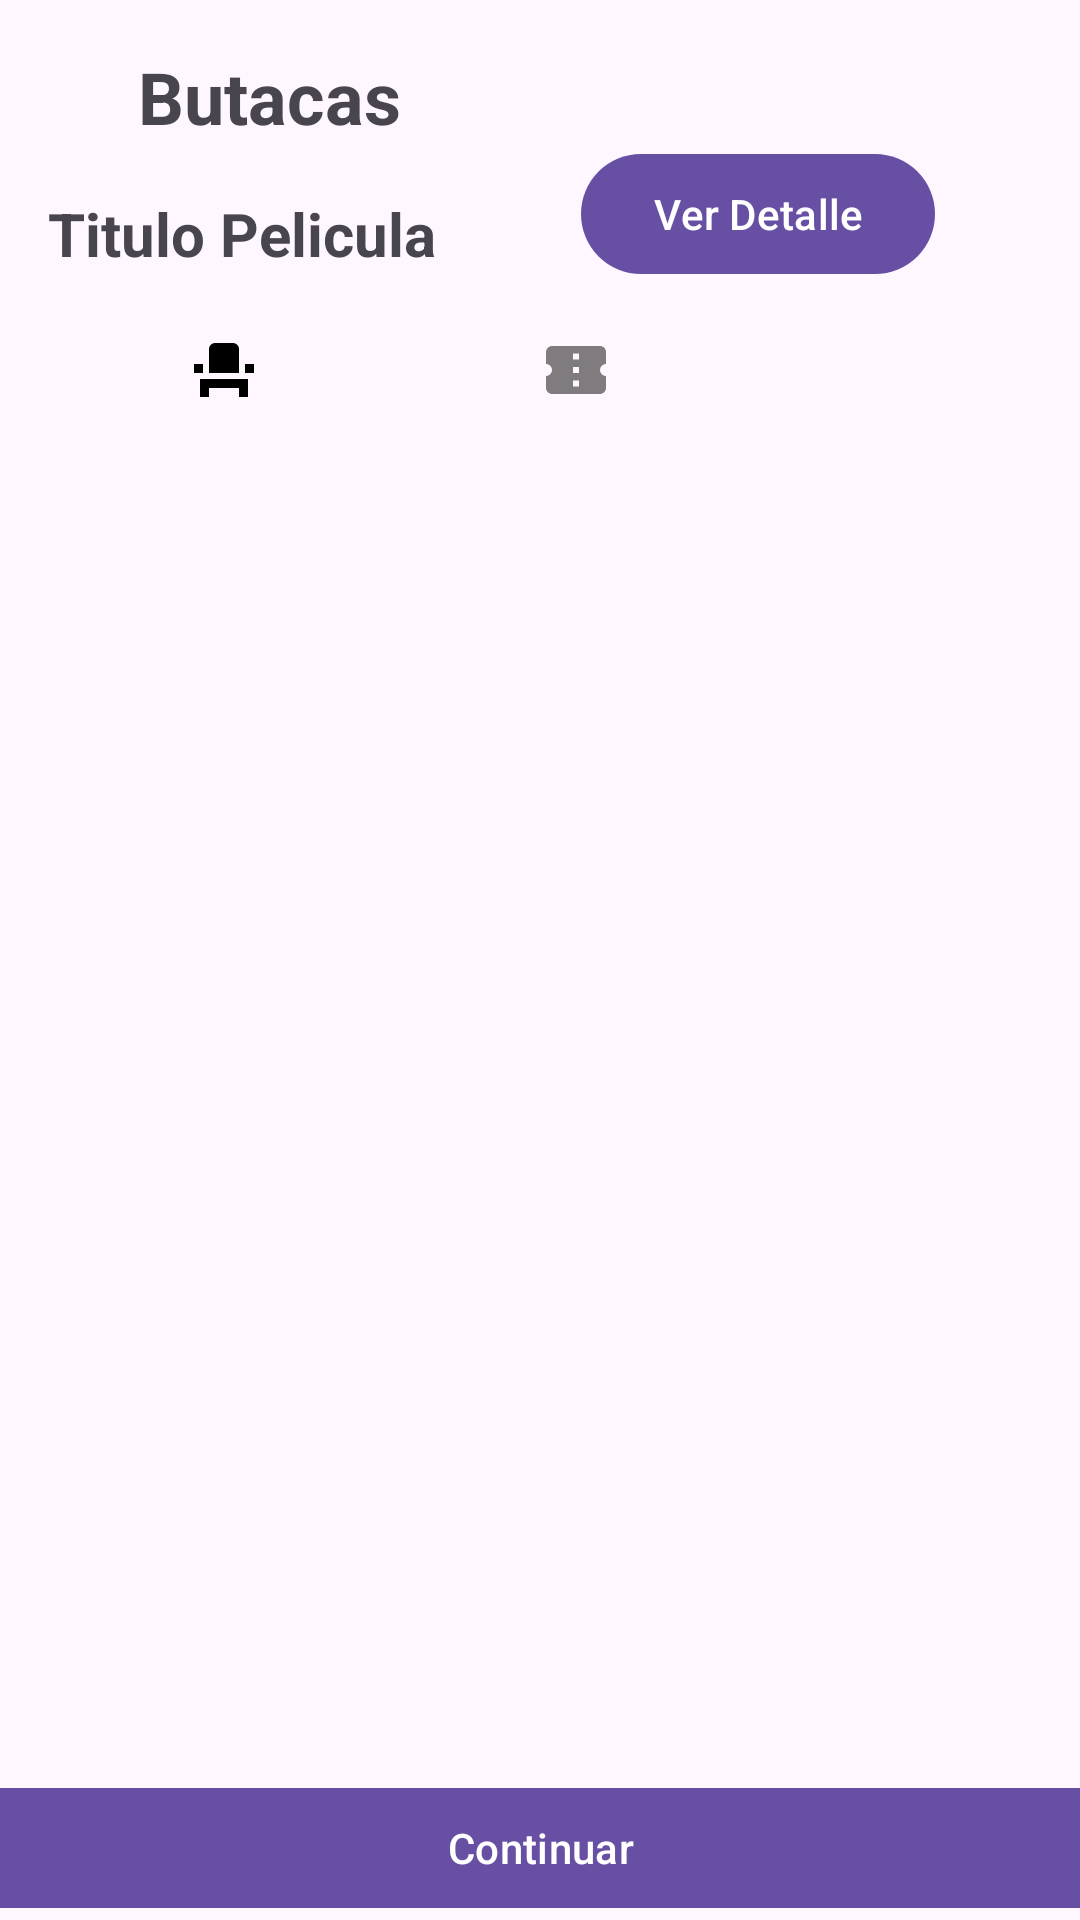

Locate icon controls on the screen. Image size 1080w x 1920h, boxes as [x1=x1, y1=y1, x2=x2, y2=y2].
seat: [x1=194, y1=343, x2=254, y2=397]
